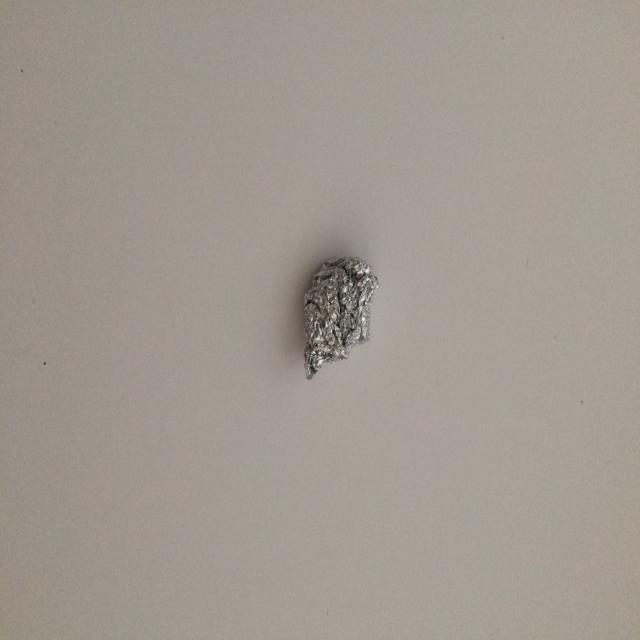metal: (303, 255, 380, 380)
